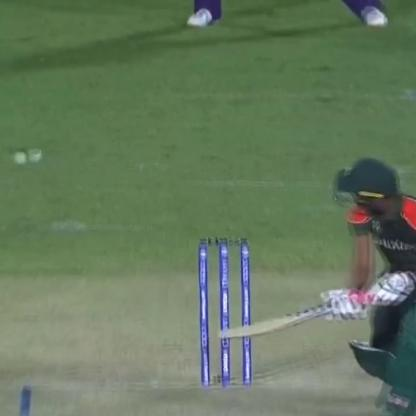ball: (28, 143, 52, 169), (6, 146, 29, 170)
bat: (205, 292, 358, 340)
